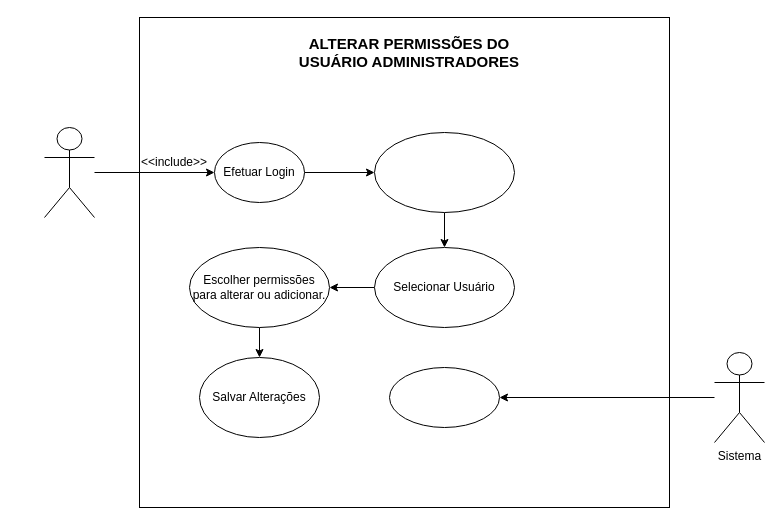
Image size: 782x525. Some labels were removed from this diagram. Here are the shapes that lost their labels. From the top down, the centre of each, then its label:
the point at 69,172: Supervisor de Recursos Humanos
the point at 444,172: Acessar Seção de Gerenciamento de Usuários
the point at 444,397: Autenticar Ações
